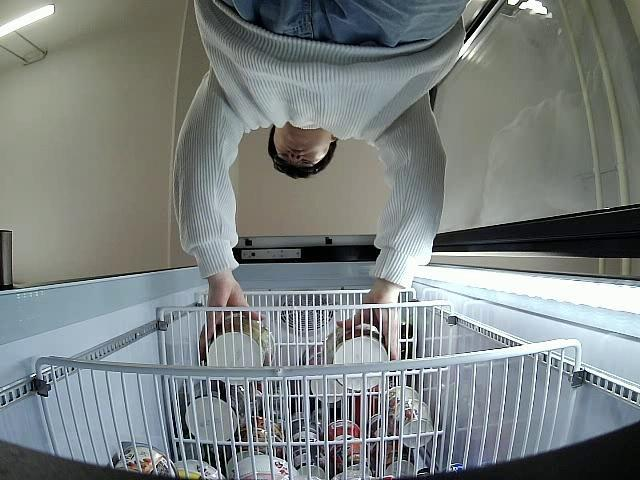03_chapagetti_L: (207, 316, 276, 387), (322, 323, 390, 392)
